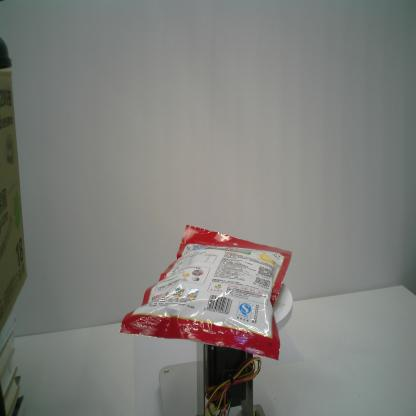Instant Drink: (119, 222, 293, 363)
